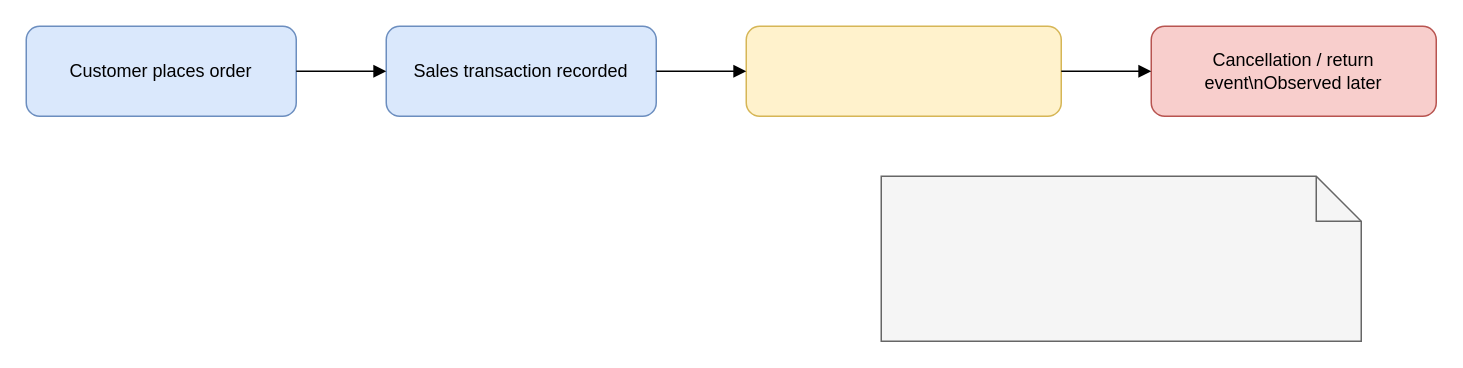
Image size: 1463x368. Some labels were removed from this diagram. Each missing label, with the centre of its shape:
"Bottleneck:\nLate cancellation visibility\nNo measured early\nexception queue" belongs at (x=1120, y=258).
"Fulfillment / operational queue\nNOT OBSERVED IN DATA" belongs at (x=903, y=70).
